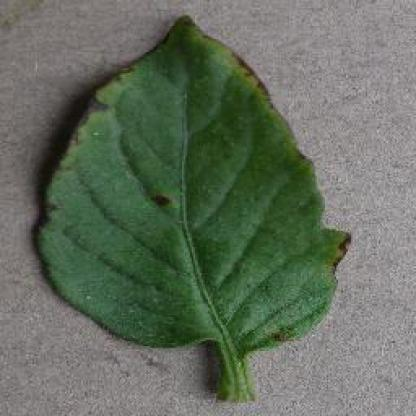bad leaf: (67, 74, 139, 160), (225, 50, 269, 110), (320, 221, 351, 274), (131, 179, 176, 215)
